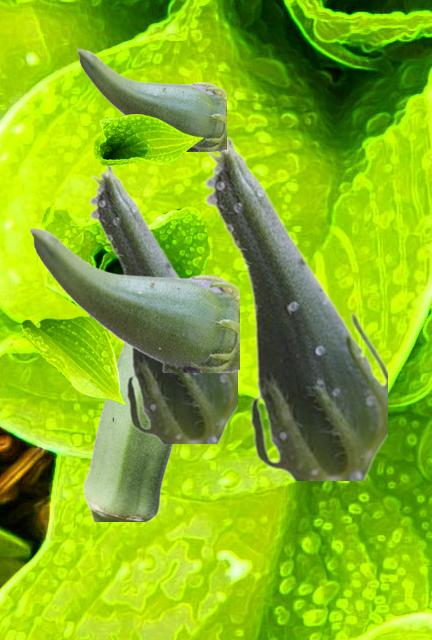okra: (203, 136, 386, 479), (88, 165, 236, 442), (29, 227, 238, 371), (83, 343, 174, 520), (76, 48, 225, 150)
